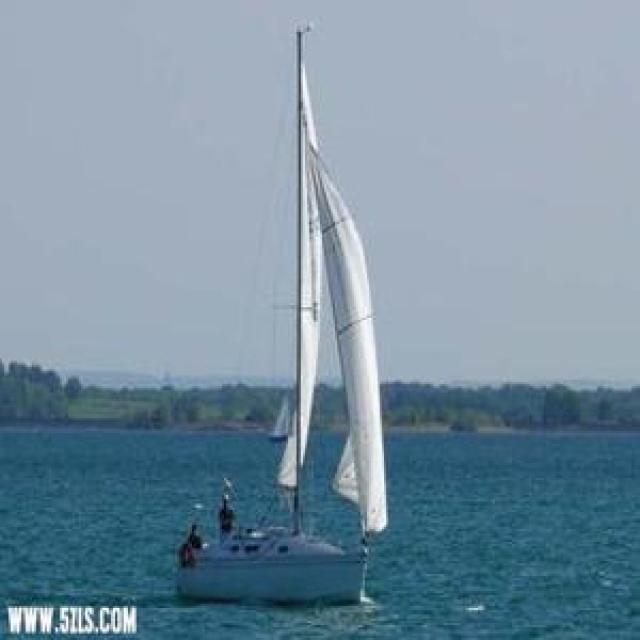sailboat: (176, 18, 387, 606)
